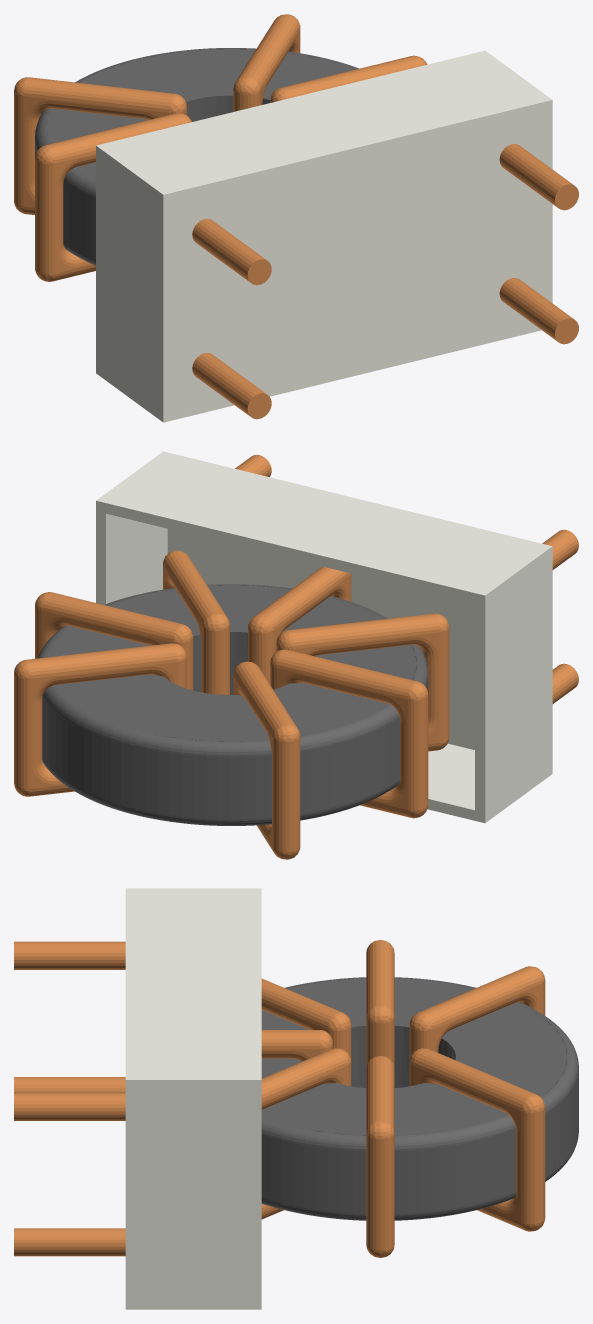
The model's file is L_CommonMode_Toroid_Vertical_L19.3mm_W10.8mm_Px6.35mm_Py15.24mm_Bourns_8100.glb.
3 views of the same model, one above another, from view 1: azimuth 30°, elevation 25°; view 2: azimuth 150°, elevation 25°; view 3: azimuth 270°, elevation 25° (orthographic).
Visible parts, largest first — view 1: Shape_IndexedFaceSet.015, Shape_IndexedFaceSet.001, Shape_IndexedFaceSet.002, Shape_IndexedFaceSet.014, Shape_IndexedFaceSet.137, Shape_IndexedFaceSet.301, Shape_IndexedFaceSet.009, Shape_IndexedFaceSet.383, Shape_IndexedFaceSet.161, Shape_IndexedFaceSet.019, Shape_IndexedFaceSet.017, Shape_IndexedFaceSet.018 (+16 smaller); view 2: Shape_IndexedFaceSet.001, Shape_IndexedFaceSet.117, Shape_IndexedFaceSet.002, Shape_IndexedFaceSet.013, Shape_IndexedFaceSet, Shape_IndexedFaceSet.094, Shape_IndexedFaceSet.137, Shape_IndexedFaceSet.008, Shape_IndexedFaceSet.223, Shape_IndexedFaceSet.213, Shape_IndexedFaceSet.007, Shape_IndexedFaceSet.390 (+41 smaller); view 3: Shape_IndexedFaceSet.004, Shape_IndexedFaceSet.001, Shape_IndexedFaceSet.069, Shape_IndexedFaceSet.080, Shape_IndexedFaceSet.223, Shape_IndexedFaceSet.067, Shape_IndexedFaceSet.078, Shape_IndexedFaceSet.017, Shape_IndexedFaceSet.018, Shape_IndexedFaceSet.019, Shape_IndexedFaceSet.012, Shape_IndexedFaceSet.137 (+26 smaller).
Boxes of the visible parts, x1,y1,x2,y2 form: Shape_IndexedFaceSet.015: (173, 113, 542, 409); Shape_IndexedFaceSet.001: (96, 50, 546, 190); Shape_IndexedFaceSet.002: (96, 146, 157, 417); Shape_IndexedFaceSet.014: (163, 100, 552, 422); Shape_IndexedFaceSet.137: (140, 49, 255, 97); Shape_IndexedFaceSet.301: (23, 79, 172, 112); Shape_IndexedFaceSet.009: (158, 95, 552, 194); Shape_IndexedFaceSet.383: (37, 162, 55, 274); Shape_IndexedFaceSet.161: (63, 181, 95, 259); Shape_IndexedFaceSet.019: (499, 144, 573, 207); Shape_IndexedFaceSet.017: (499, 278, 573, 341); Shape_IndexedFaceSet.018: (192, 219, 265, 281); Shape_IndexedFaceSet.001: (96, 455, 546, 595); Shape_IndexedFaceSet.117: (133, 717, 399, 819); Shape_IndexedFaceSet.002: (485, 551, 546, 822); Shape_IndexedFaceSet.013: (167, 529, 474, 749); Shape_IndexedFaceSet: (96, 500, 485, 823); Shape_IndexedFaceSet.094: (42, 697, 133, 807); Shape_IndexedFaceSet.137: (54, 674, 186, 730); Shape_IndexedFaceSet.008: (106, 513, 167, 603); Shape_IndexedFaceSet.223: (141, 693, 269, 741); Shape_IndexedFaceSet.213: (273, 683, 388, 735); Shape_IndexedFaceSet.007: (428, 743, 474, 810); Shape_IndexedFaceSet.390: (290, 615, 439, 648); Shape_IndexedFaceSet.004: (137, 1080, 261, 1309); Shape_IndexedFaceSet.001: (137, 888, 261, 1079); Shape_IndexedFaceSet.069: (394, 1129, 516, 1213); Shape_IndexedFaceSet.080: (261, 1135, 366, 1213); Shape_IndexedFaceSet.223: (442, 1002, 566, 1056); Shape_IndexedFaceSet.067: (394, 1083, 507, 1135); Shape_IndexedFaceSet.078: (261, 1083, 366, 1135); Shape_IndexedFaceSet.017: (14, 1228, 125, 1256); Shape_IndexedFaceSet.018: (14, 941, 125, 969); Shape_IndexedFaceSet.019: (14, 1093, 125, 1120); Shape_IndexedFaceSet.012: (125, 1080, 137, 1309); Shape_IndexedFaceSet.137: (458, 1057, 566, 1096).
Size of the model in its own units: 7.6 by 4.25 by 9.47.
